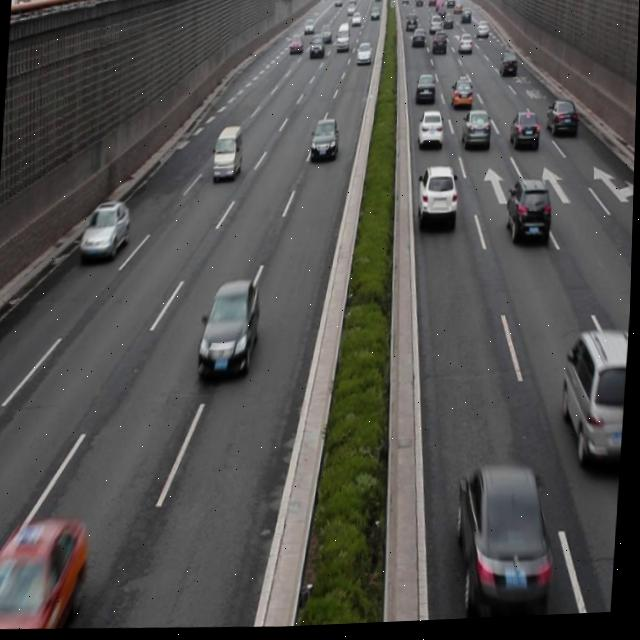car: (452, 465, 559, 617), (0, 516, 89, 632), (560, 330, 630, 472), (199, 278, 262, 382), (505, 179, 554, 252), (80, 198, 132, 263), (417, 166, 460, 230), (309, 119, 340, 167), (546, 100, 578, 143), (509, 112, 540, 155), (461, 110, 491, 154), (416, 112, 445, 151), (449, 79, 474, 115), (414, 74, 437, 109)
truck: (213, 125, 244, 183)
